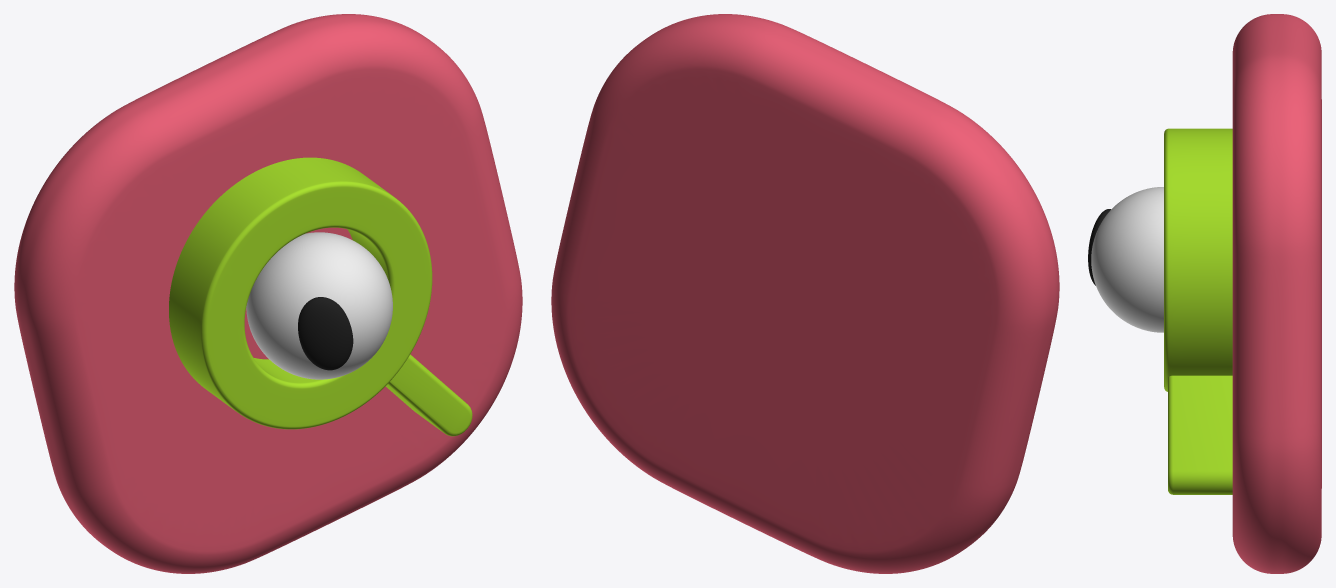
File: searching-animated-3d-icon-1346673705109.glb
3 views of the same model, side by side, from view 1: azimuth 30°, elevation 25°; view 2: azimuth 150°, elevation 25°; view 3: azimuth 270°, elevation 25° (orthographic).
Visible parts, largest first — view 1: Plane.013, Circle.001, Sphere.005, Sphere.006; view 2: Plane.013; view 3: Plane.013, Circle.001, Sphere.005, Sphere.006.
Boxes of the visible parts, left/top/right/bottom form: Plane.013: left=14, top=14, right=522, bottom=573; Circle.001: left=169, top=157, right=472, bottom=436; Sphere.005: left=246, top=232, right=392, bottom=379; Sphere.006: left=298, top=297, right=353, bottom=370; Plane.013: left=551, top=14, right=1059, bottom=573; Plane.013: left=1232, top=14, right=1321, bottom=573; Circle.001: left=1164, top=128, right=1232, bottom=494; Sphere.005: left=1091, top=187, right=1163, bottom=332; Sphere.006: left=1088, top=209, right=1110, bottom=285.
Bounding box in the file's own units: 2.12 × 2.12 × 0.8812.
